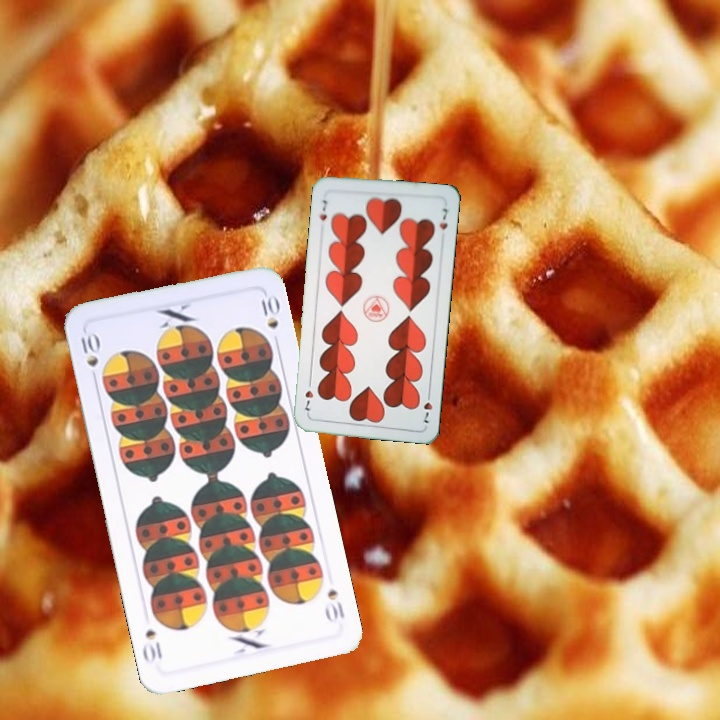H7: (418, 387, 435, 426), (315, 195, 330, 223)
S10: (77, 327, 102, 386), (321, 585, 347, 625)
